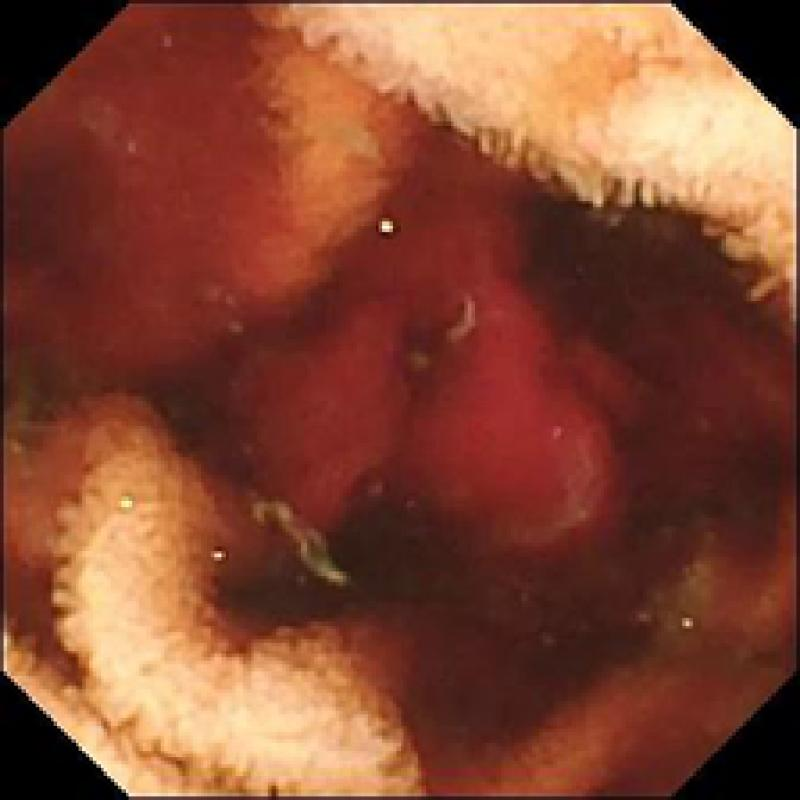bleeding: (0, 0, 797, 800)
